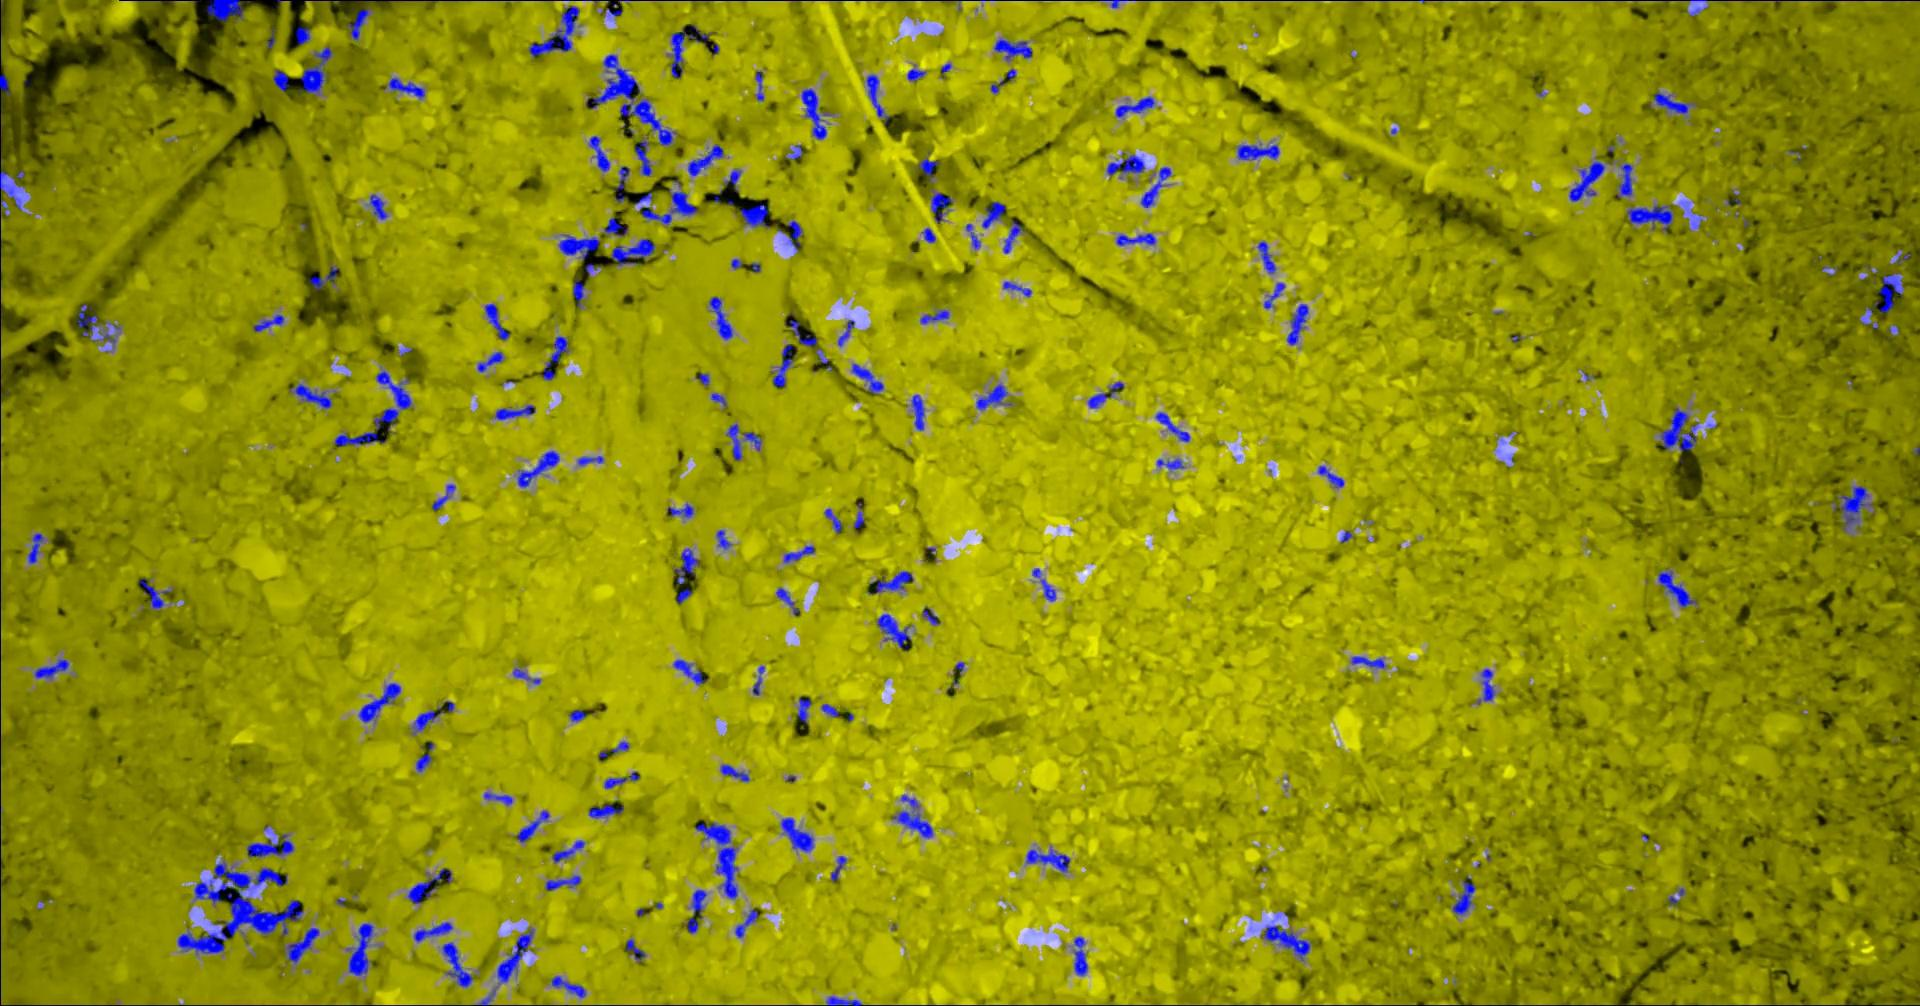ant: (334, 370, 411, 446), (528, 5, 579, 57), (497, 929, 533, 983), (639, 189, 697, 224), (670, 25, 709, 77), (891, 794, 932, 837), (1864, 272, 1903, 316), (1658, 406, 1698, 451), (1263, 925, 1310, 960), (1831, 486, 1872, 527), (358, 683, 400, 721), (298, 46, 331, 94), (517, 450, 559, 486), (408, 868, 451, 903), (1657, 570, 1697, 607), (1568, 160, 1604, 201), (441, 942, 472, 987), (0, 158, 23, 216), (348, 923, 373, 976), (801, 88, 825, 138), (1627, 205, 1672, 231), (611, 238, 654, 265), (1140, 166, 1170, 207), (286, 927, 319, 963), (866, 74, 889, 124), (783, 311, 817, 345), (877, 614, 910, 648), (780, 817, 813, 851), (687, 144, 723, 175), (542, 335, 568, 379), (557, 234, 599, 259), (516, 810, 549, 842), (1025, 848, 1069, 871), (246, 835, 293, 856), (290, 384, 331, 408), (709, 296, 731, 339), (138, 577, 169, 608), (1156, 412, 1189, 441), (1451, 875, 1476, 915), (1087, 381, 1123, 408), (851, 363, 883, 392), (206, 0, 248, 22), (484, 304, 509, 339), (772, 343, 792, 387), (673, 547, 698, 583), (383, 77, 424, 99), (1286, 304, 1308, 344), (870, 572, 912, 592), (1653, 91, 1691, 113), (1106, 154, 1144, 175), (975, 384, 1007, 409), (1115, 97, 1154, 117), (413, 921, 452, 941), (672, 659, 705, 683), (411, 706, 442, 732), (345, 8, 370, 39), (551, 840, 584, 862), (589, 135, 610, 171), (551, 976, 585, 997), (739, 203, 770, 227), (993, 39, 1031, 58), (1002, 220, 1023, 253), (76, 304, 98, 337), (734, 908, 758, 937), (930, 192, 952, 222), (34, 658, 69, 678), (309, 265, 337, 290), (634, 138, 651, 175), (430, 484, 455, 511), (775, 587, 799, 614), (1237, 144, 1279, 159), (494, 404, 535, 419), (982, 201, 1004, 227), (1477, 668, 1495, 702), (1317, 465, 1343, 486), (604, 771, 639, 788), (1257, 241, 1275, 273), (251, 314, 283, 332), (726, 423, 742, 460), (1073, 936, 1087, 976), (598, 741, 629, 758), (545, 875, 580, 890), (916, 158, 938, 180), (1617, 163, 1632, 197), (1263, 282, 1284, 307), (477, 351, 503, 371), (910, 394, 924, 431), (783, 545, 814, 561), (1116, 232, 1156, 245), (615, 166, 629, 202), (720, 763, 748, 781), (603, 216, 627, 236), (27, 533, 43, 563), (837, 319, 855, 345), (625, 937, 644, 962), (588, 804, 623, 817), (1002, 281, 1031, 296), (691, 889, 706, 918), (1351, 655, 1385, 668), (370, 194, 387, 218), (787, 220, 801, 250), (512, 668, 540, 683), (272, 69, 290, 91), (830, 855, 846, 882), (824, 508, 841, 532), (665, 503, 693, 517), (796, 697, 811, 723), (723, 169, 740, 191), (571, 278, 584, 307), (919, 310, 949, 323), (752, 666, 764, 695), (965, 224, 980, 248), (742, 431, 761, 450), (825, 995, 861, 1005), (483, 793, 510, 805), (921, 606, 938, 624), (853, 502, 863, 532), (1040, 579, 1055, 600), (1667, 887, 1684, 904), (1156, 459, 1183, 469), (785, 144, 803, 159), (577, 455, 603, 465), (415, 753, 430, 771), (295, 25, 309, 44), (716, 528, 730, 547), (756, 71, 763, 102), (676, 588, 691, 603), (822, 702, 838, 716), (907, 69, 924, 81), (568, 709, 585, 721), (921, 227, 935, 243), (711, 392, 726, 406), (0, 74, 9, 95), (687, 916, 698, 932), (698, 372, 709, 385)
